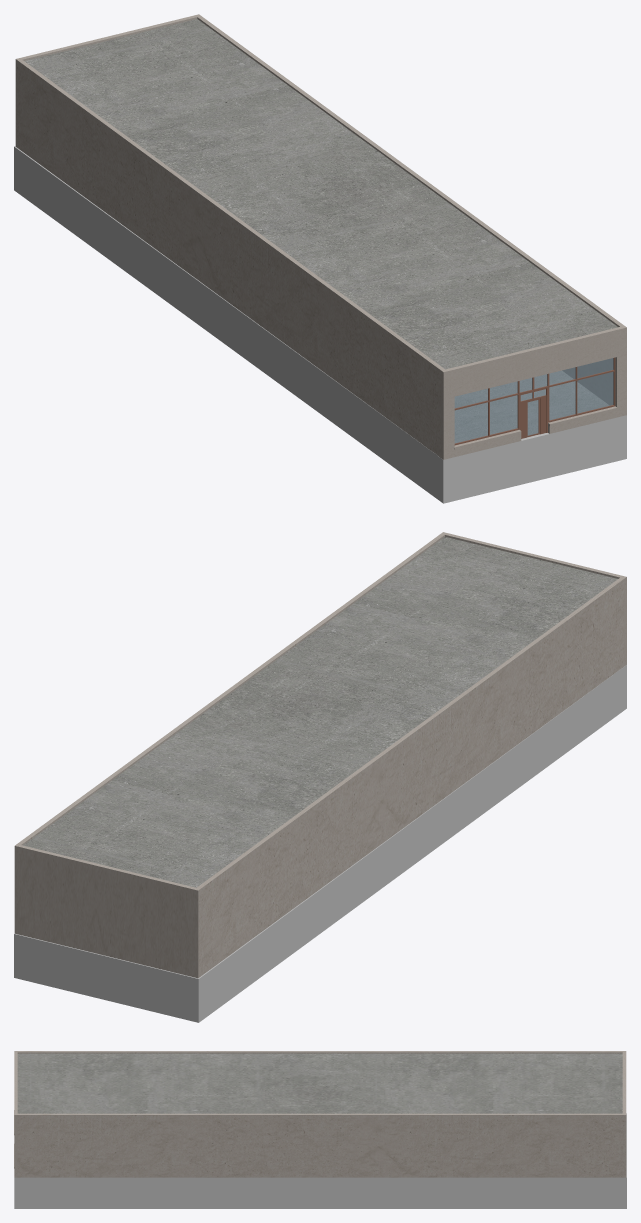
Rendered from A23_Building03.fbx.
3 renders of one model, top to bottom at view 1: azimuth 30°, elevation 25°; view 2: azimuth 150°, elevation 25°; view 3: azimuth 270°, elevation 25°, orthographic. The views are drawn at different scales.
Parts seen in each view (by area): view 1: BD1671; view 2: BD1671; view 3: BD1671.
Boxes of the visible parts, box(x1,y1,x2,y2) form: BD1671: box(14, 14, 626, 503); BD1671: box(14, 532, 626, 1022); BD1671: box(14, 1051, 626, 1208).
Bounding box in the file's own units: 881 × 600 × 3547.
